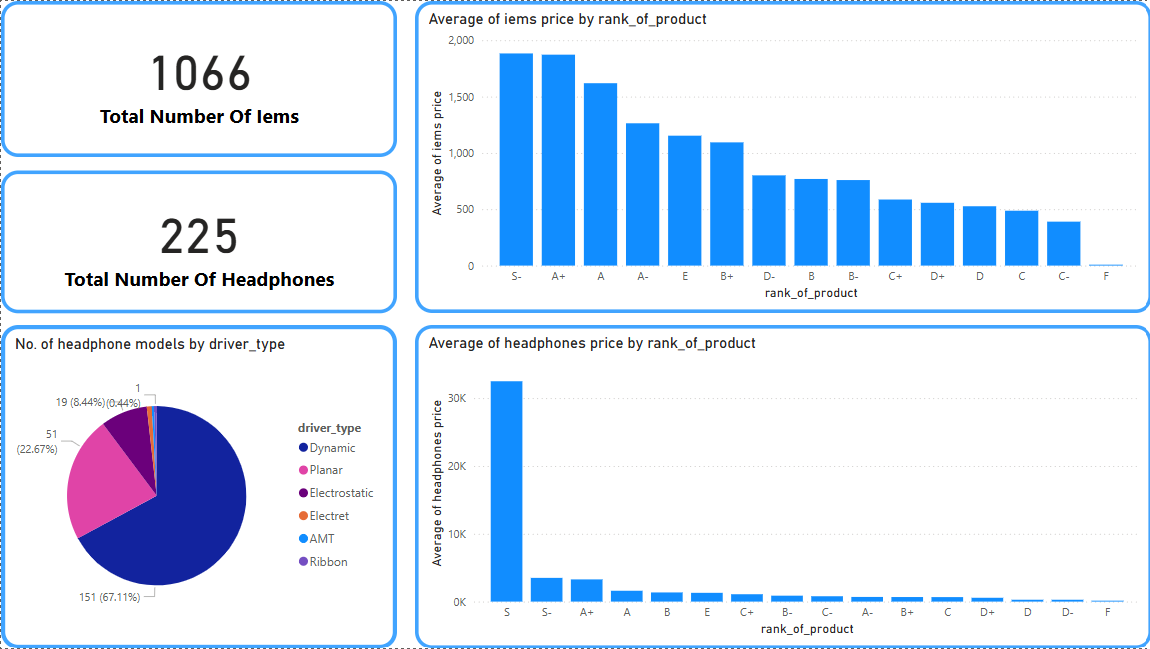

The page's visual inventory and layout, read from the dashboard file:
{"tool":"powerbi","page":{"name":"Page 1","canvas":[1280,720],"ordinal":0},"visuals":[{"type":"pieChart","fields":{"Category":["audio_device_data_pipeline headphones.driver_type"],"Y":["CountNonNull(audio_device_data_pipeline headphones.model)"]},"box":[0,360,440,360],"z":0},{"type":"card","fields":{"Values":["CountNonNull(audio_device_data_pipeline headphones.model)"]},"box":[0,188.3,440,158.3],"z":2},{"type":"card","fields":{"Values":["CountNonNull(audio_device_data_pipeline iems.model)"]},"box":[0,0,440,173.3],"z":3},{"type":"columnChart","fields":{"Category":["audio_device_data_pipeline headphones.rank_of_product"],"Y":["Avg(audio_device_data_pipeline headphones.price_msrp)"]},"box":[460,360,820,360],"z":4},{"type":"columnChart","fields":{"Category":["audio_device_data_pipeline iems.rank_of_product"],"Y":["Avg(audio_device_data_pipeline iems.price_msrp)"]},"box":[460,0,820,346.7],"z":5}]}

Visuals, with their boxes in screenshot pixels (x1, y1, x2, y2), scaled from the page's 1280x720 canvas onto the 1150x649 screenshot:
pieChart - audio_device_data_pipeline headphones.driver_type x CountNonNull(audio_device_data_pipeline headphones.model): <region>0, 324, 395, 648</region>
card - CountNonNull(audio_device_data_pipeline headphones.model): <region>0, 170, 395, 312</region>
card - CountNonNull(audio_device_data_pipeline iems.model): <region>0, 0, 395, 156</region>
columnChart - audio_device_data_pipeline headphones.rank_of_product x Avg(audio_device_data_pipeline headphones.price_msrp): <region>413, 324, 1149, 648</region>
columnChart - audio_device_data_pipeline iems.rank_of_product x Avg(audio_device_data_pipeline iems.price_msrp): <region>413, 0, 1149, 313</region>
